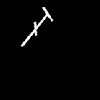double_crochet: (21, 7, 52, 45)
